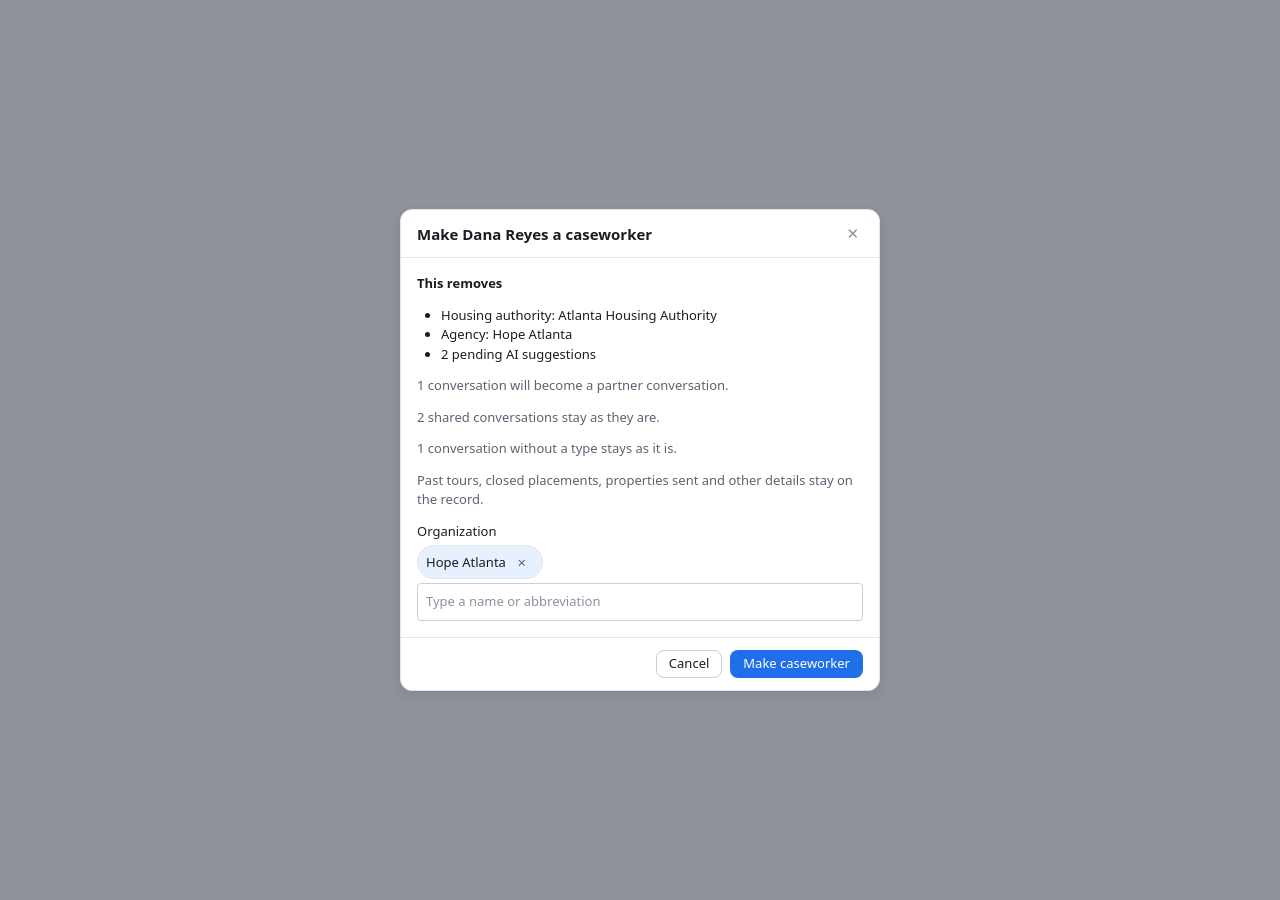
Scenario: CaseworkerDialog › a refusal answered by make replaces the preview and disables Confirm
Expected: the text "Past tours, closed placements, properties sent and other details stay on the record." is shown, x1=417 y1=471 x2=853 y2=508
Step 1. Click the button "Make caseworker" → (797, 664), box x1=730 y1=650 x2=863 y2=678
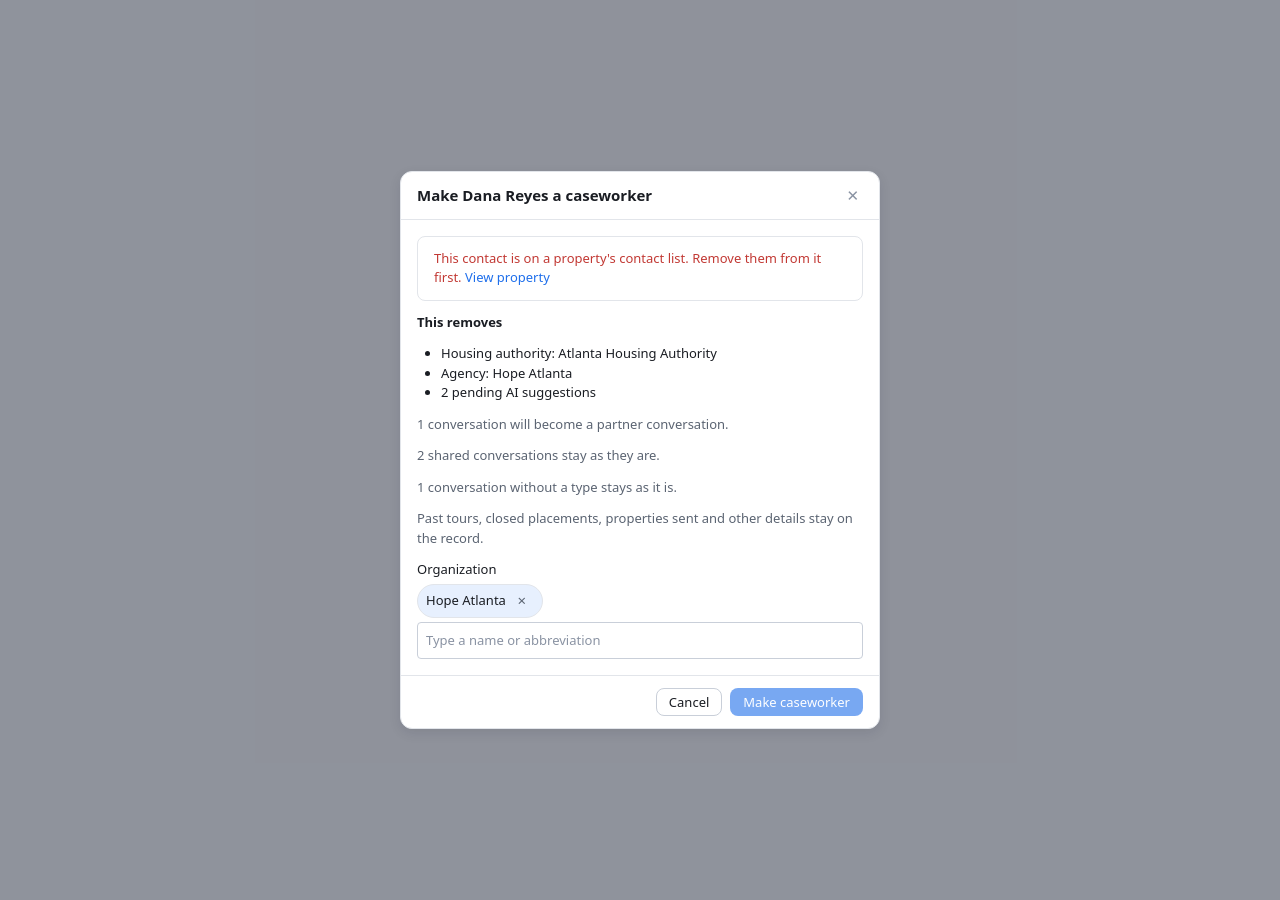
Expected: the list item "This contact is on a property's contact list. Remove them from it first." is shown, x1=434 y1=249 x2=821 y2=286
Expected: the button "Make caseworker" is disabled, x1=730 y1=688 x2=863 y2=716
